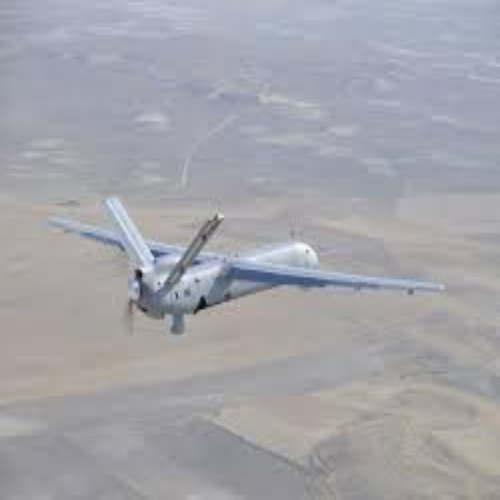uav440: (46, 196, 448, 336)
